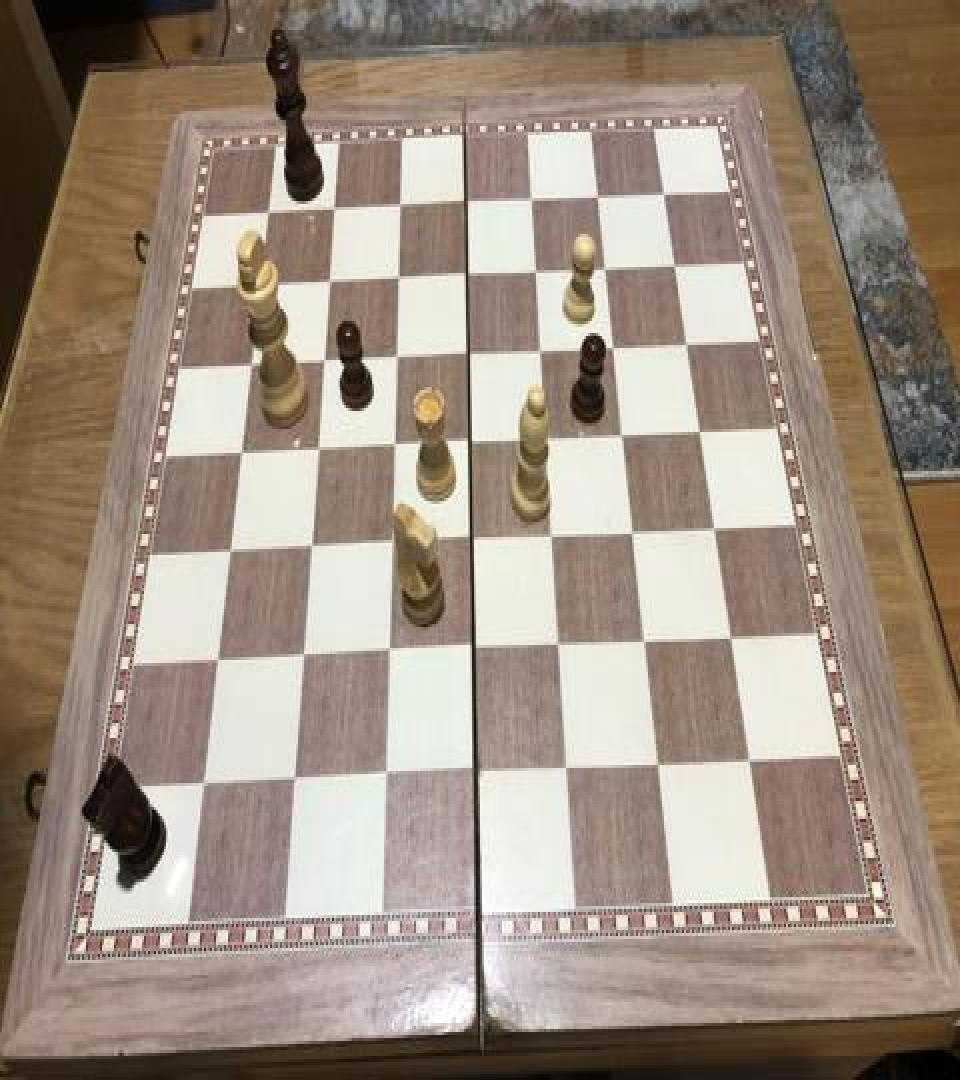xcorner: (292, 640, 316, 677), (284, 763, 308, 800), (653, 174, 677, 210), (586, 178, 610, 214), (520, 182, 544, 218), (454, 184, 478, 220), (388, 189, 412, 225), (322, 192, 346, 228), (256, 196, 280, 232), (664, 246, 688, 282), (594, 250, 618, 286), (525, 254, 549, 290), (455, 258, 479, 294), (386, 261, 410, 297), (317, 266, 341, 302), (248, 268, 272, 304), (676, 326, 700, 362), (603, 330, 627, 366), (530, 333, 554, 369), (457, 338, 481, 374), (384, 340, 408, 376), (312, 345, 336, 381), (240, 348, 264, 384), (689, 414, 713, 450), (612, 417, 636, 453), (535, 422, 559, 458), (459, 426, 483, 462), (382, 429, 406, 465), (306, 434, 330, 470), (230, 436, 254, 472), (704, 512, 728, 548), (623, 516, 647, 552), (542, 519, 566, 555), (461, 524, 485, 560), (380, 526, 404, 562), (300, 531, 324, 567), (219, 536, 243, 572), (721, 621, 745, 657), (635, 624, 659, 660), (549, 628, 573, 664), (463, 633, 487, 669), (377, 636, 401, 672), (207, 645, 231, 681), (740, 744, 764, 780), (648, 747, 672, 783), (556, 752, 580, 788), (465, 756, 489, 792), (375, 759, 399, 795), (194, 768, 218, 804)
